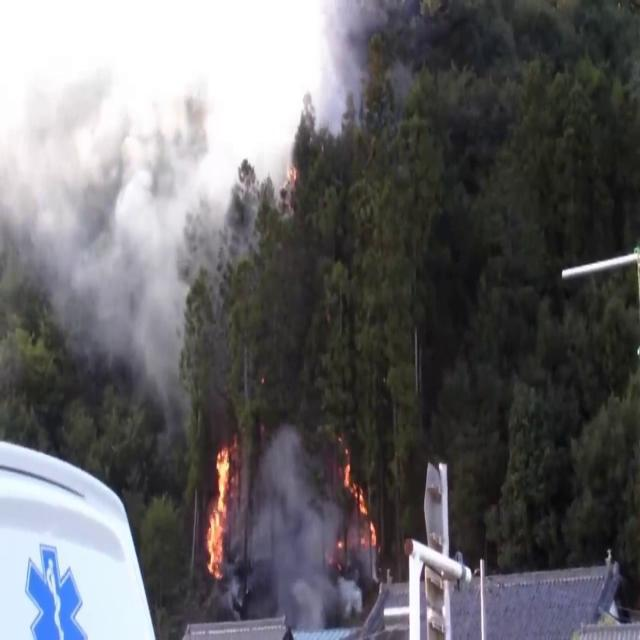Fire: (340, 452, 383, 582), (202, 433, 238, 583)
Smoke: (0, 14, 242, 412), (242, 406, 342, 634)
